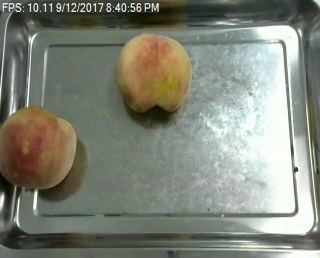Peach: (0, 106, 77, 192), (115, 32, 191, 114)
